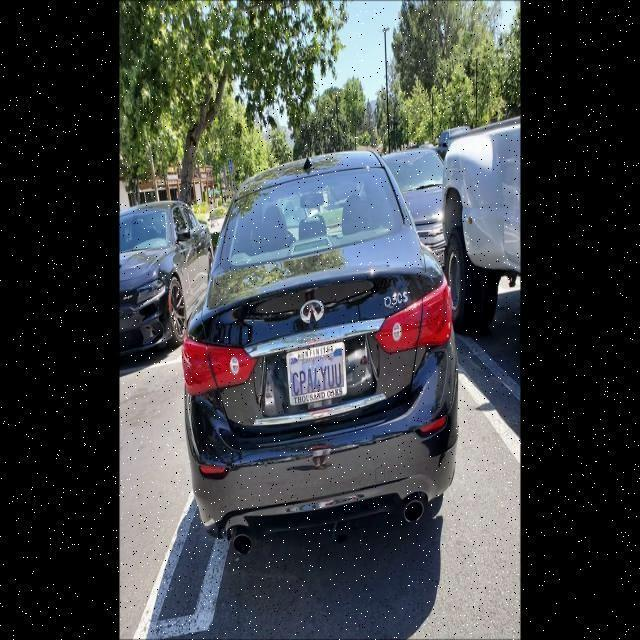LicensePlate: (289, 351, 346, 407)
